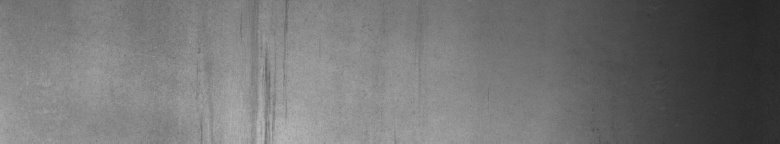ka: (201, 4, 288, 136)
